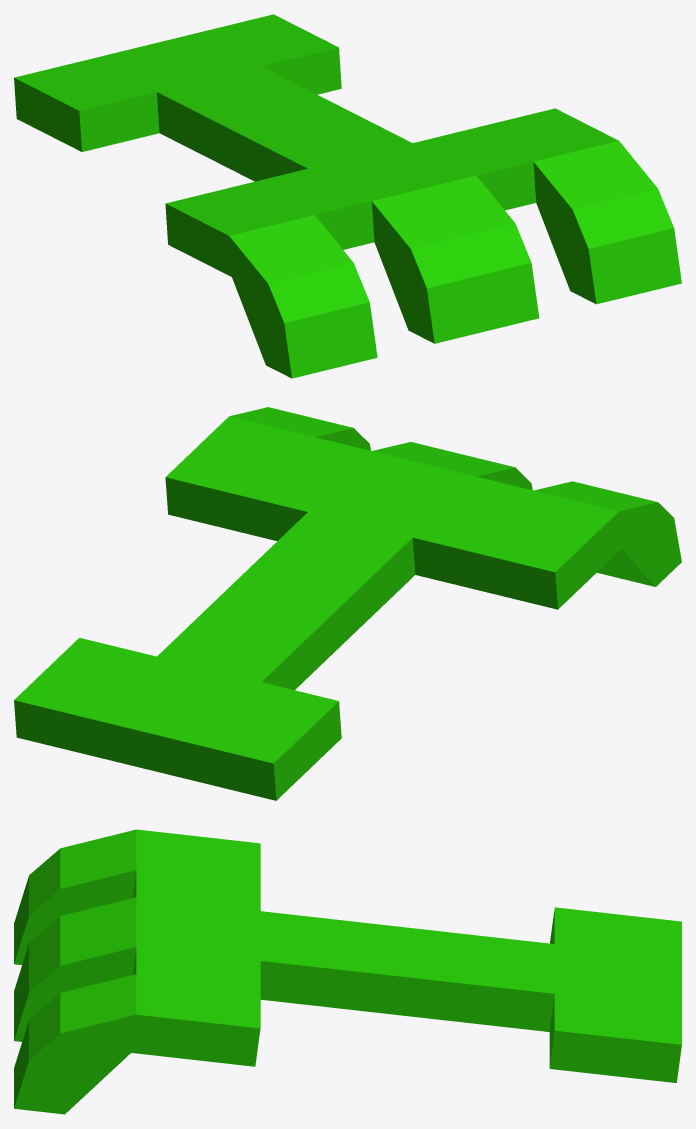
File: BeachToy_2.fbx
3 renders of one model, top to bottom at view 1: azimuth 30°, elevation 25°; view 2: azimuth 150°, elevation 25°; view 3: azimuth 270°, elevation 25°, orthographic. The views are drawn at different scales.
Parts seen in each view (by area): view 1: Toy; view 2: Toy; view 3: Toy.
Boxes of the visible parts, x1,y1,x2,y2 form: Toy: (14,14,681,378); Toy: (14,407,681,800); Toy: (14,829,681,1114).
Bounding box in the file's own units: 26.36 × 6.63 × 40.18.
